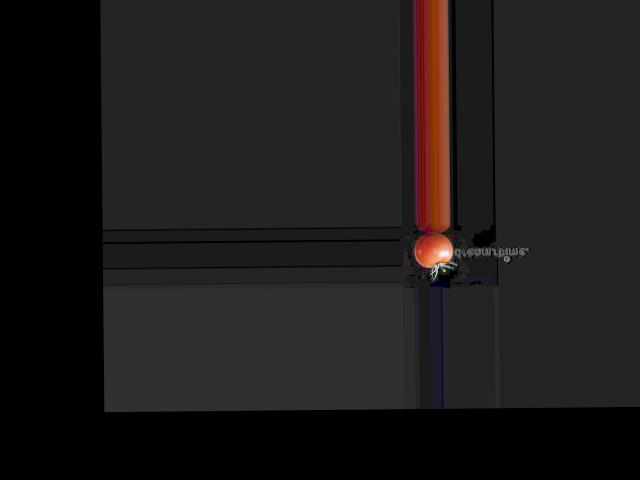tomato: (414, 233, 453, 267)
